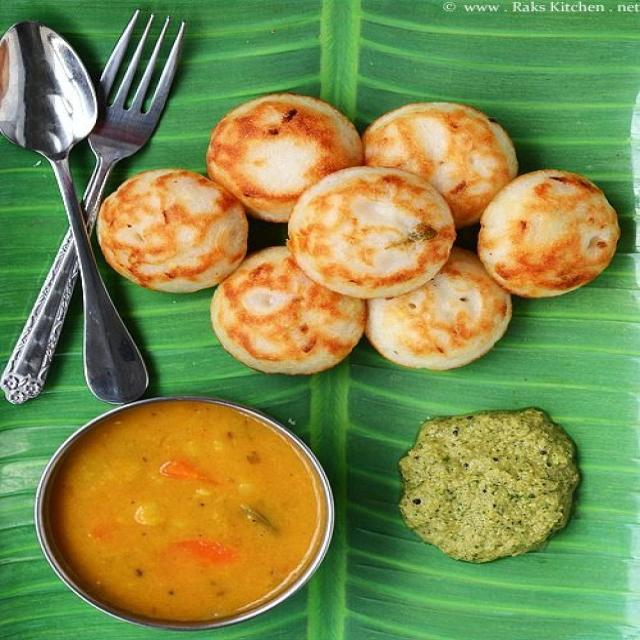puthina chutney: (384, 408, 596, 562)
